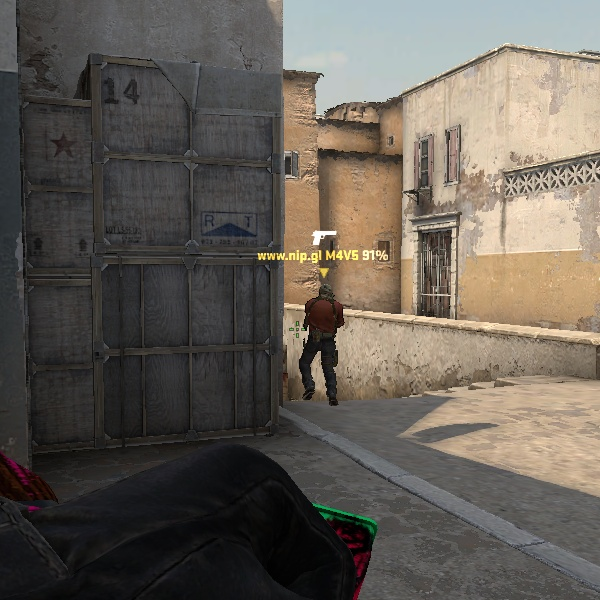t_body: (294, 282, 348, 404)
t_head: (318, 282, 335, 304)
